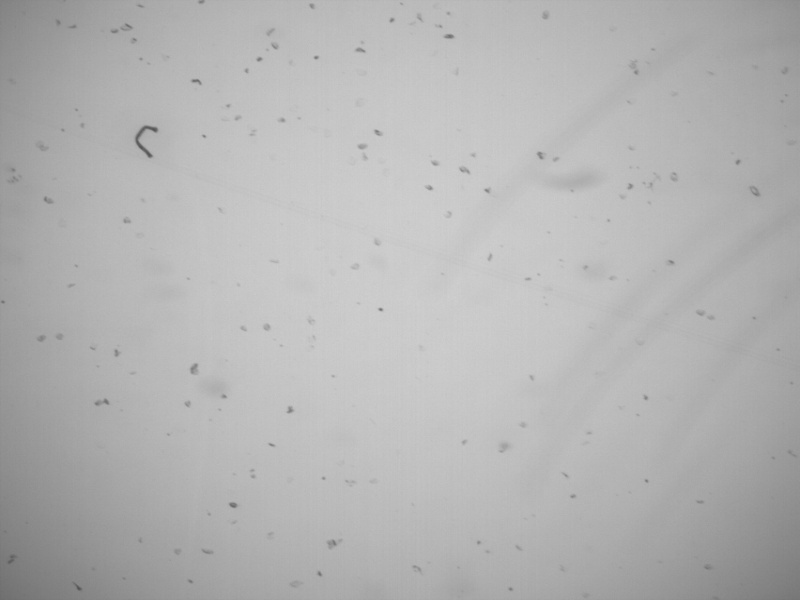fiber: (130, 123, 162, 161)
